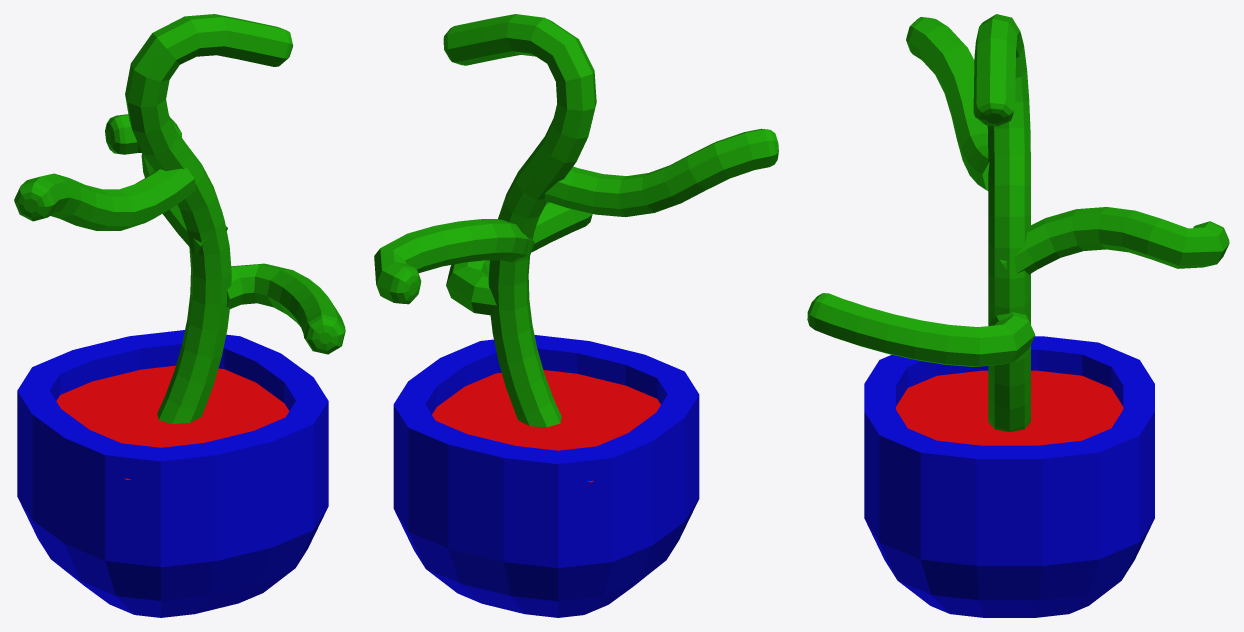
Rendered from PlantPot.fbx.
The picture shows the model from 3 angles, left to right: view 1: azimuth 30°, elevation 25°; view 2: azimuth 150°, elevation 25°; view 3: azimuth 270°, elevation 25°; orthographic projection. The views are drawn at different scales.
Visible parts, largest first — view 1: Pot, TreeBase, Dirt; view 2: Pot, TreeBase, Dirt; view 3: Pot, TreeBase, Dirt.
Boxes of the visible parts, <box> form: Pot: <box>17,330,328,617</box>; TreeBase: <box>14,14,345,423</box>; Dirt: <box>56,365,289,479</box>; Pot: <box>393,335,699,617</box>; TreeBase: <box>374,14,778,427</box>; Dirt: <box>432,370,660,482</box>; Pot: <box>864,336,1154,617</box>; TreeBase: <box>807,14,1229,431</box>; Dirt: <box>896,370,1123,445</box>.
Size of the model in its own units: 257 by 445 by 291.
